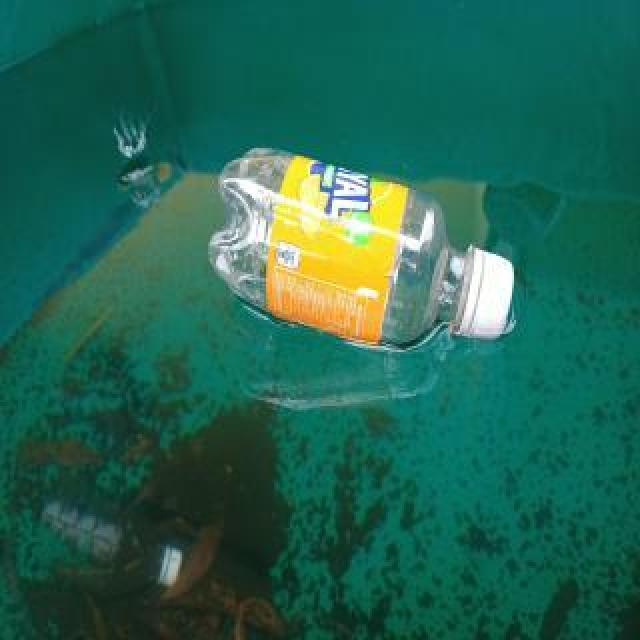bottle: (205, 141, 517, 357)
